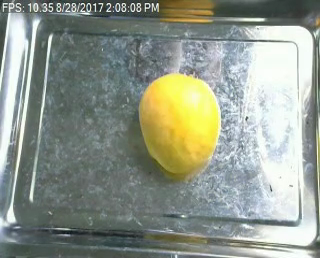Mango: (137, 72, 218, 176)
